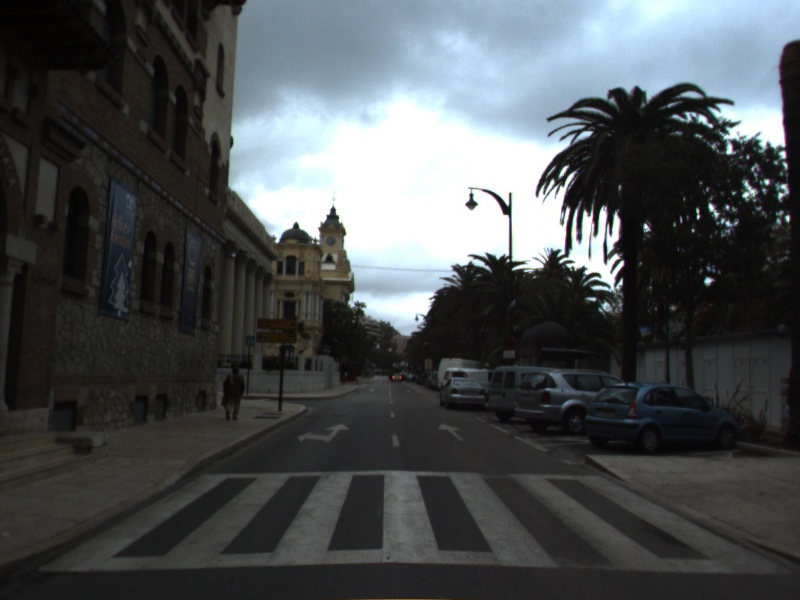STRAIGHT: (435, 421, 466, 443)
STRAIGHT_LEFT: (294, 421, 351, 445)
